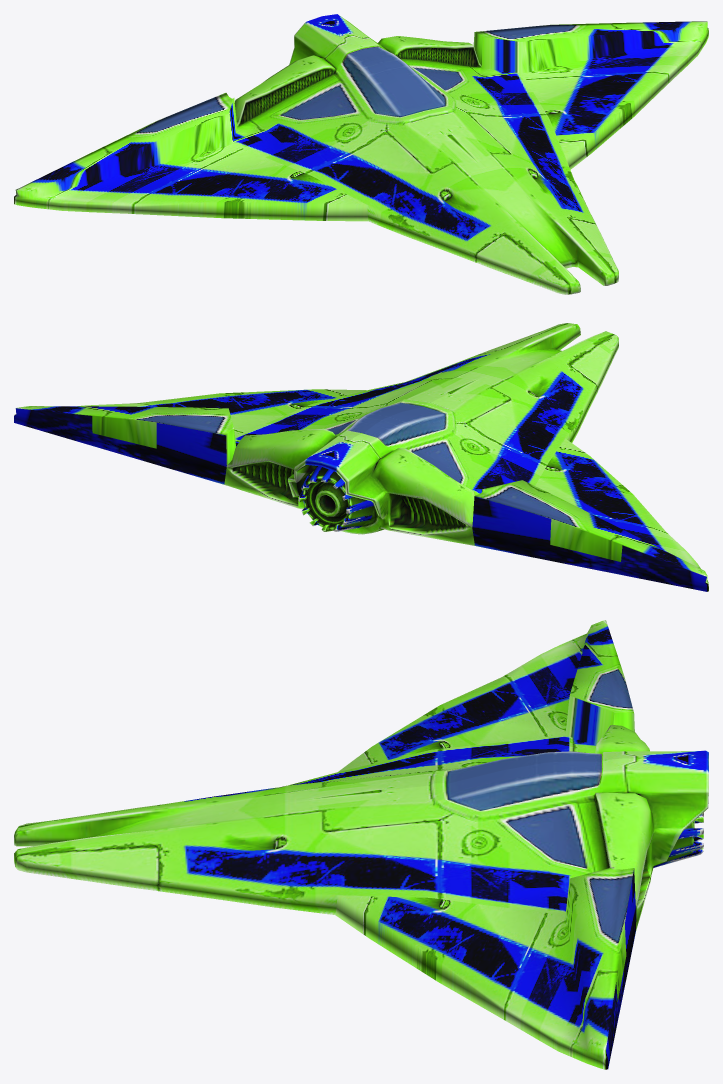
Rendered from spaceship.fbx.
3 renders of one model, top to bottom at view 1: azimuth 30°, elevation 25°; view 2: azimuth 150°, elevation 25°; view 3: azimuth 270°, elevation 25°, orthographic. The views are drawn at different scales.
Parts seen in each view (by area): view 1: vehicle_playerShip; view 2: vehicle_playerShip; view 3: vehicle_playerShip.
Part boxes in pixels (<box>): vehicle_playerShip: <box>14,14,708,294</box>; vehicle_playerShip: <box>14,323,708,591</box>; vehicle_playerShip: <box>14,620,708,1069</box>.
Size of the model in its own units: 248 by 33.25 by 169.
